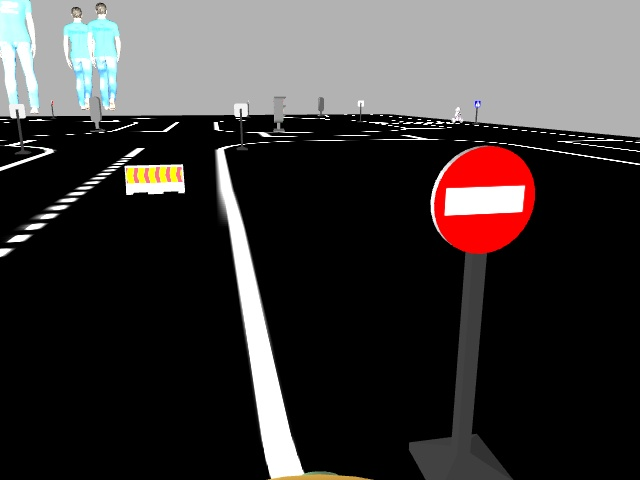ClosedRoadStand: (128, 165, 184, 194)
NoEntry: (436, 147, 536, 251)
